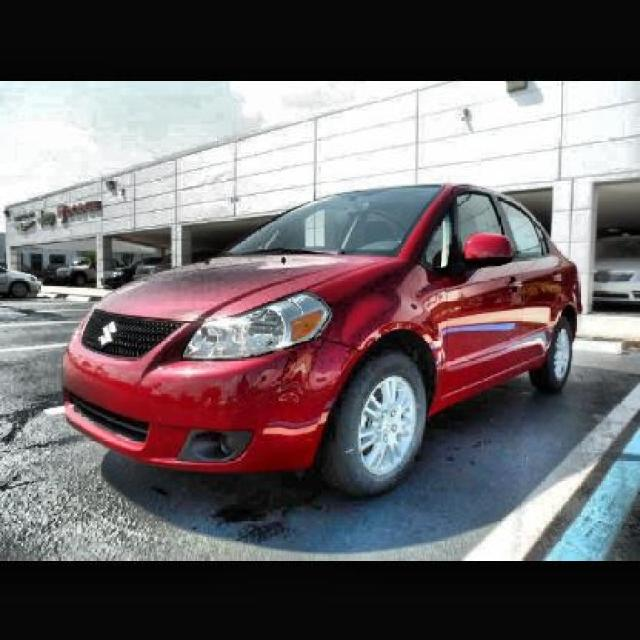red: (66, 172, 588, 497)
